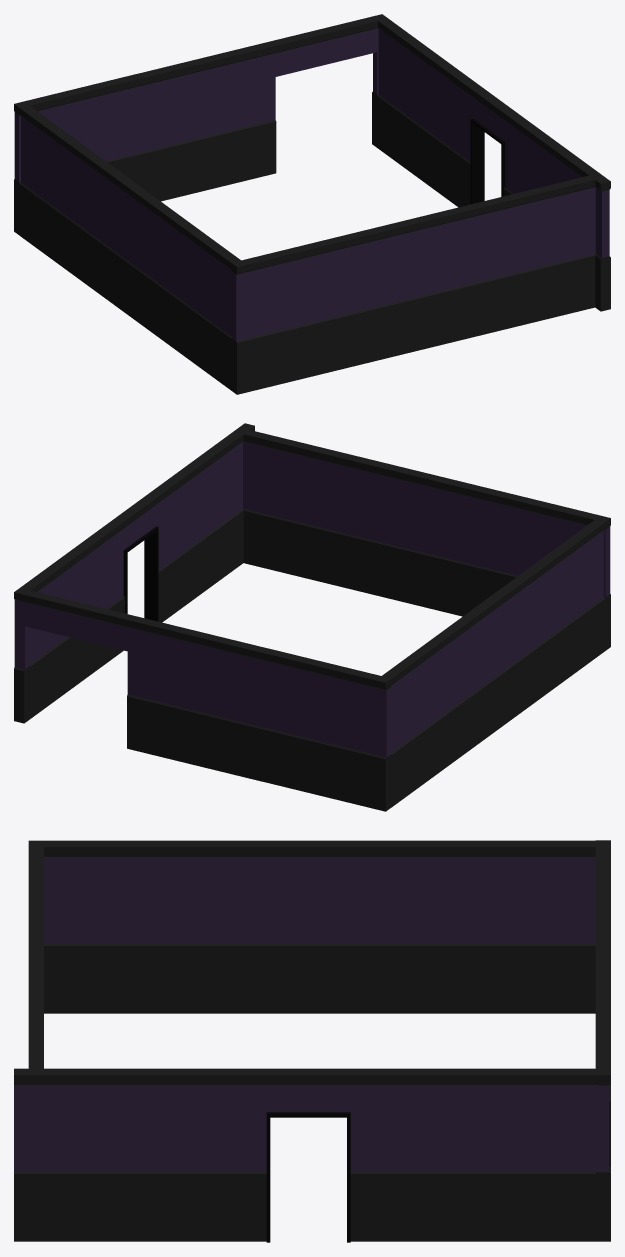
File: Bedroom 2.fbx
3 renders of one model, top to bottom at view 1: azimuth 30°, elevation 25°; view 2: azimuth 150°, elevation 25°; view 3: azimuth 270°, elevation 25°, orthographic. The views are drawn at different scales.
Visible parts, largest first — view 1: Classic_Wall_snaps001 (80), Classic_Wall_snaps001 (81), Classic_Wall_snaps001 (69), Classic_Wall_snaps001 (82), Classic_Wall_snaps001 (76), Classic_Wall_snaps001 (78), Classic_Wall_snaps001 (79), Classic_Wall_snaps001 (77), Classic_Wall_snaps001 (70), Classic_WallDoorFrame_02_snaps001 (14), wbwve (3), Classic_Wall_snaps001 (75); view 2: Classic_Wall_snaps001 (70), Classic_Wall_snaps001 (69), Classic_Wall_snaps001 (81), Classic_Wall_snaps001 (82), Classic_Wall_snaps001 (78), Classic_Wall_snaps001 (77), Classic_Wall_snaps001 (79), Classic_Wall_snaps001 (75), Classic_Wall_snaps001 (80), Classic_Wall_snaps001 (76), Classic_WallDoorFrame_02_snaps001 (14), wbwve (3); view 3: Classic_Wall_snaps001 (75), Classic_Wall_snaps001 (76), Classic_Wall_snaps001 (79), Classic_Wall_snaps001 (78), Classic_Wall_snaps001 (77), Classic_WallDoorFrame_02_snaps001 (14), wbwve (3), Classic_Wall_snaps001 (69), Classic_Wall_snaps001 (70), Classic_Wall_snaps001 (80), Classic_Wall_snaps001 (81), Classic_Wall_snaps001 (82).
Boxes of the visible parts, x1=… form: Classic_Wall_snaps001 (80): x1=231, y1=233, x2=358, y2=394; Classic_Wall_snaps001 (81): x1=353, y1=203, x2=480, y2=364; Classic_Wall_snaps001 (69): x1=137, y1=44, x2=265, y2=201; Classic_Wall_snaps001 (82): x1=475, y1=173, x2=602, y2=335; Classic_Wall_snaps001 (76): x1=375, y1=16, x2=462, y2=202; Classic_Wall_snaps001 (78): x1=90, y1=157, x2=170, y2=338; Classic_Wall_snaps001 (79): x1=20, y1=106, x2=99, y2=286; Classic_Wall_snaps001 (77): x1=160, y1=209, x2=240, y2=390; Classic_Wall_snaps001 (70): x1=14, y1=74, x2=142, y2=235; Classic_WallDoorFrame_02_snaps001 (14): x1=452, y1=73, x2=532, y2=207; wbwve (3): x1=260, y1=14, x2=387, y2=175; Classic_Wall_snaps001 (75): x1=522, y1=124, x2=610, y2=311; Classic_Wall_snaps001 (70): x1=261, y1=648, x2=391, y2=811; Classic_Wall_snaps001 (69): x1=137, y1=618, x2=266, y2=781; Classic_Wall_snaps001 (81): x1=358, y1=458, x2=487, y2=616; Classic_Wall_snaps001 (82): x1=236, y1=428, x2=363, y2=590; Classic_Wall_snaps001 (78): x1=453, y1=572, x2=533, y2=754; Classic_Wall_snaps001 (77): x1=524, y1=520, x2=604, y2=702; Classic_Wall_snaps001 (79): x1=382, y1=624, x2=462, y2=806; Classic_Wall_snaps001 (75): x1=166, y1=423, x2=254, y2=612; Classic_Wall_snaps001 (80): x1=482, y1=488, x2=610, y2=650; Classic_Wall_snaps001 (76): x1=19, y1=532, x2=105, y2=718; Classic_WallDoorFrame_02_snaps001 (14): x1=96, y1=481, x2=176, y2=663; wbwve (3): x1=14, y1=588, x2=142, y2=750; Classic_Wall_snaps001 (75): x1=14, y1=1068, x2=218, y2=1241; Classic_Wall_snaps001 (76): x1=400, y1=1068, x2=603, y2=1241; Classic_Wall_snaps001 (79): x1=411, y1=840, x2=595, y2=1013; Classic_Wall_snaps001 (78): x1=228, y1=840, x2=411, y2=1013; Classic_Wall_snaps001 (77): x1=44, y1=840, x2=227, y2=1013; Classic_WallDoorFrame_02_snaps001 (14): x1=216, y1=1068, x2=400, y2=1242; wbwve (3): x1=595, y1=997, x2=610, y2=1241; Classic_Wall_snaps001 (69): x1=595, y1=919, x2=610, y2=1095; Classic_Wall_snaps001 (70): x1=595, y1=840, x2=610, y2=918; Classic_Wall_snaps001 (80): x1=28, y1=840, x2=43, y2=918; Classic_Wall_snaps001 (81): x1=28, y1=918, x2=43, y2=995; Classic_Wall_snaps001 (82): x1=28, y1=996, x2=43, y2=1073.
Bounding box in the file's own units: 9.09 × 3 × 9.74.
